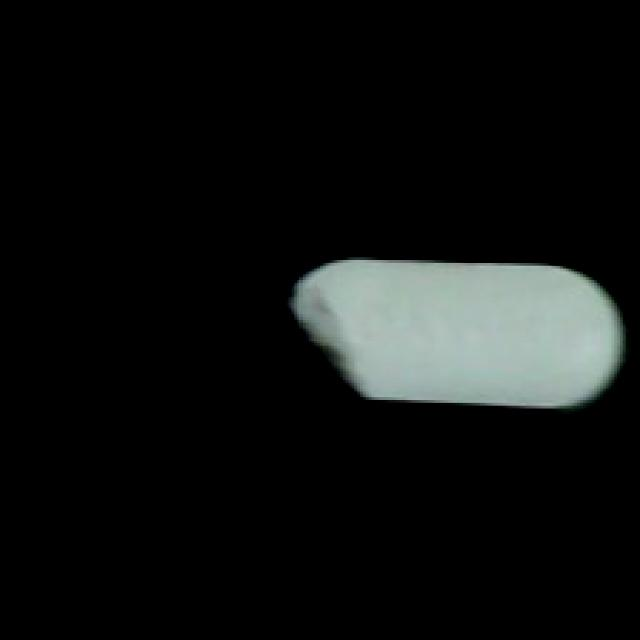defected: (277, 246, 640, 423)
